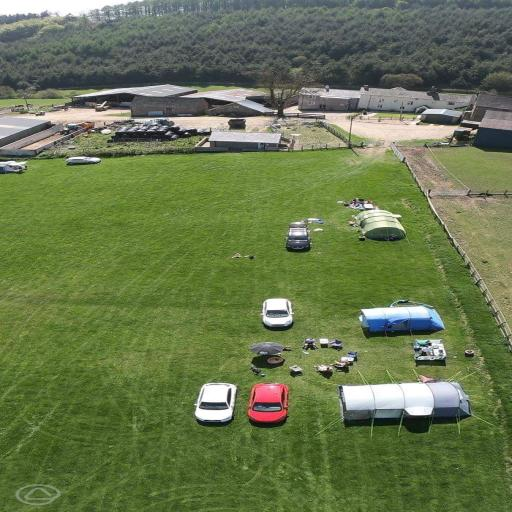Tent: (333, 379, 477, 423), (346, 305, 438, 333), (348, 210, 412, 240)
